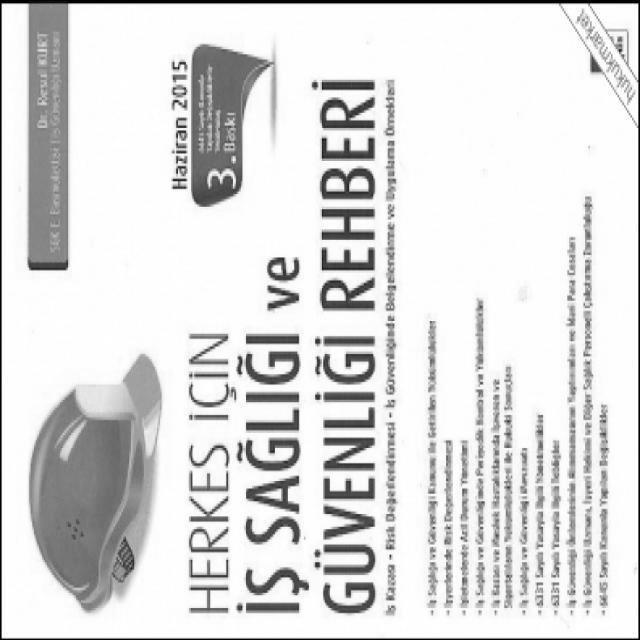construction helmet: (28, 351, 164, 612)
